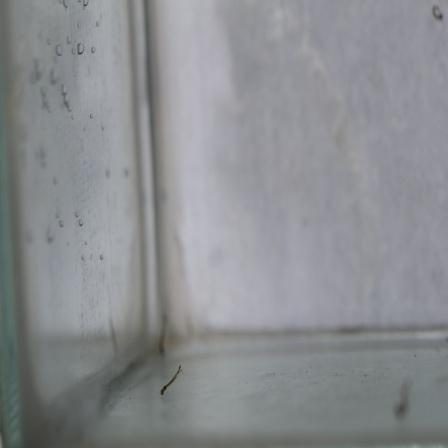Jentik-Nyamuk: (153, 362, 187, 397)
